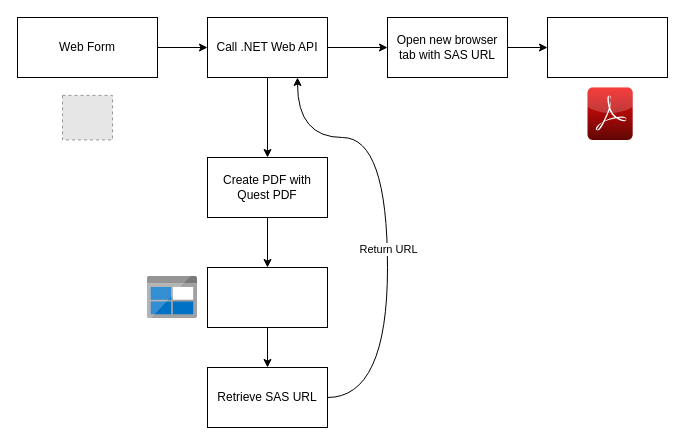
The diagram is 685 pixels wide and 445 high, and some of its shapes have lost their labels. Grey dashed boxes stand in for pictures. Each missing label, with the centre of its shape:
"save PDF to Azure Blob Storage" goes at (x=267, y=297).
"Show PDF" goes at (x=607, y=47).
